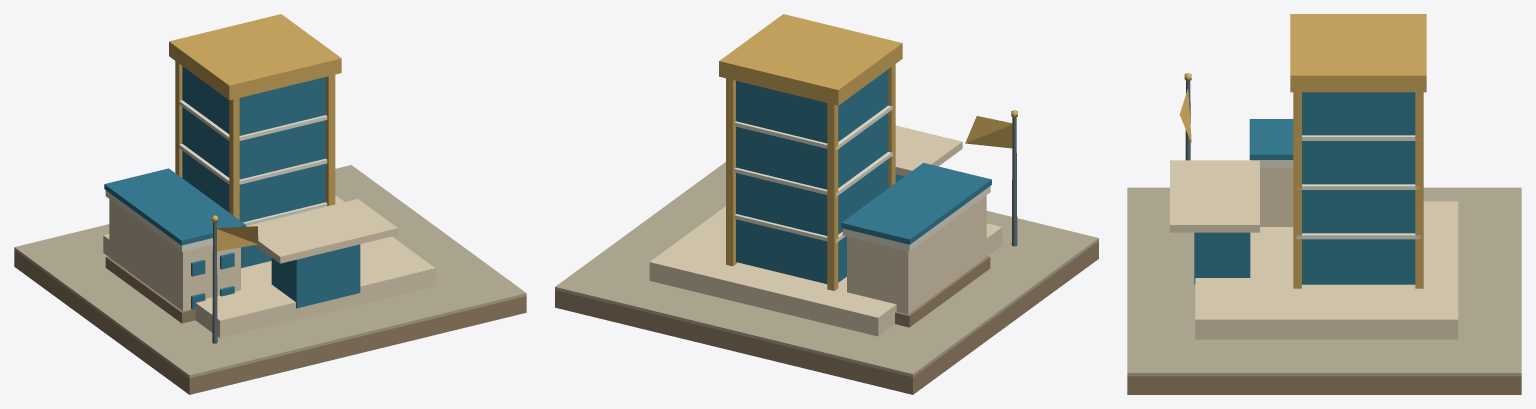
File: club-headquarters-lv2.glb
3 renders of one model, left to right at view 1: azimuth 30°, elevation 25°; view 2: azimuth 150°, elevation 25°; view 3: azimuth 270°, elevation 25°, orthographic. The views are drawn at different scales.
Visible parts, largest first — view 1: foundation_paving, office_tower_glass, tower_crown_gold, headquarters_plinth_cream, foundation_stoneDark, office_wing_cream, entrance_canopy_cream, office_wing_roof_glass, entrance_lobby_glass, tower_mullions_gold, floor_bands_white, office_wing_stoneDark (+4 smaller); view 2: foundation_paving, office_tower_glass, headquarters_plinth_cream, tower_crown_gold, foundation_stoneDark, office_wing_cream, office_wing_roof_glass, tower_mullions_gold, floor_bands_white, entrance_canopy_cream, office_wing_stoneDark, flags_gold (+2 smaller); view 3: foundation_paving, headquarters_plinth_cream, office_tower_glass, tower_crown_gold, foundation_stoneDark, entrance_canopy_cream, tower_mullions_gold, entrance_lobby_glass, floor_bands_white, office_wing_cream, office_wing_roof_glass, flags_gold.
Part boxes in pixels (box(x1,y1,x2,y2)): foundation_paving: box(14, 165, 526, 378); office_tower_glass: box(182, 66, 325, 268); tower_crown_gold: box(169, 14, 341, 100); headquarters_plinth_cream: box(103, 195, 435, 338); foundation_stoneDark: box(14, 250, 526, 394); office_wing_cream: box(109, 199, 240, 310); entrance_canopy_cream: box(246, 199, 397, 263); office_wing_roof_glass: box(104, 168, 245, 245); entrance_lobby_glass: box(271, 244, 360, 308); tower_mullions_gold: box(175, 61, 335, 219); floor_bands_white: box(179, 100, 327, 225); office_wing_stoneDark: box(105, 256, 195, 323); foundation_paving: box(555, 162, 1098, 377); office_tower_glass: box(736, 69, 888, 283); headquarters_plinth_cream: box(649, 206, 1002, 336); tower_crown_gold: box(719, 14, 902, 105); foundation_stoneDark: box(555, 241, 1098, 394); office_wing_cream: box(847, 195, 986, 314); office_wing_roof_glass: box(841, 163, 991, 244); tower_mullions_gold: box(726, 64, 895, 290); floor_bands_white: box(734, 105, 893, 242); entrance_canopy_cream: box(895, 125, 962, 176); office_wing_stoneDark: box(895, 256, 990, 327); flags_gold: box(965, 110, 1017, 148); foundation_paving: box(1127, 187, 1521, 376); headquarters_plinth_cream: box(1195, 201, 1458, 339); office_tower_glass: box(1302, 92, 1415, 284); tower_crown_gold: box(1290, 14, 1426, 92); foundation_stoneDark: box(1127, 376, 1521, 394); entrance_canopy_cream: box(1170, 160, 1259, 232); tower_mullions_gold: box(1293, 92, 1423, 288); entrance_lobby_glass: box(1194, 232, 1250, 284); floor_bands_white: box(1296, 135, 1420, 239); office_wing_cream: box(1260, 167, 1293, 226); office_wing_roof_glass: box(1249, 119, 1293, 159); flags_gold: box(1179, 73, 1191, 142).
Bounding box in the file's own units: 1 × 0.6486 × 0.9.
